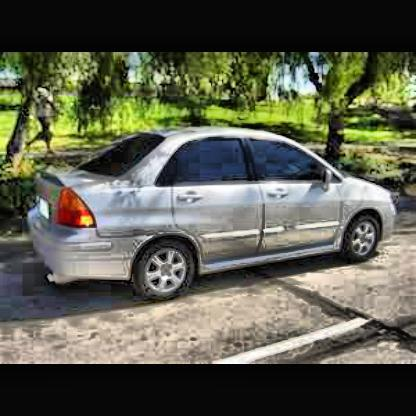Suzuki Aerio Sedan 2007: (33, 125, 400, 306)
